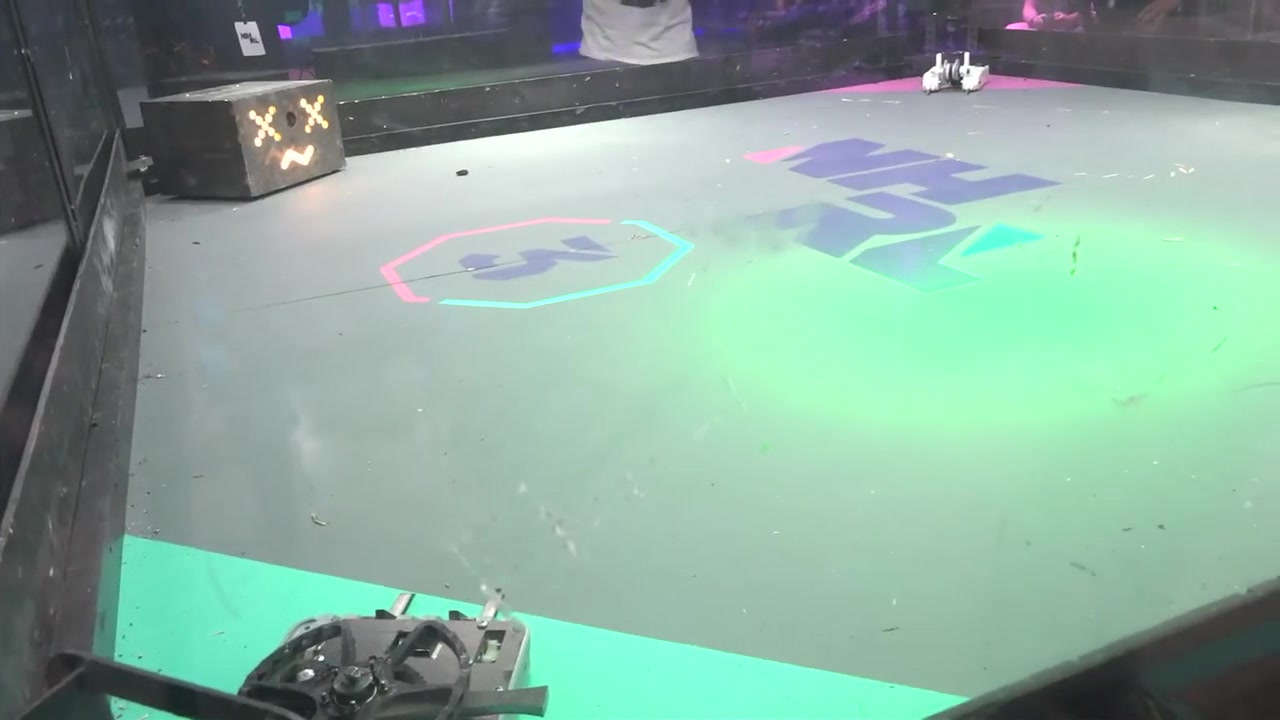combatbot: (233, 585, 550, 717), (920, 53, 990, 95)
housebot: (144, 79, 350, 201)
